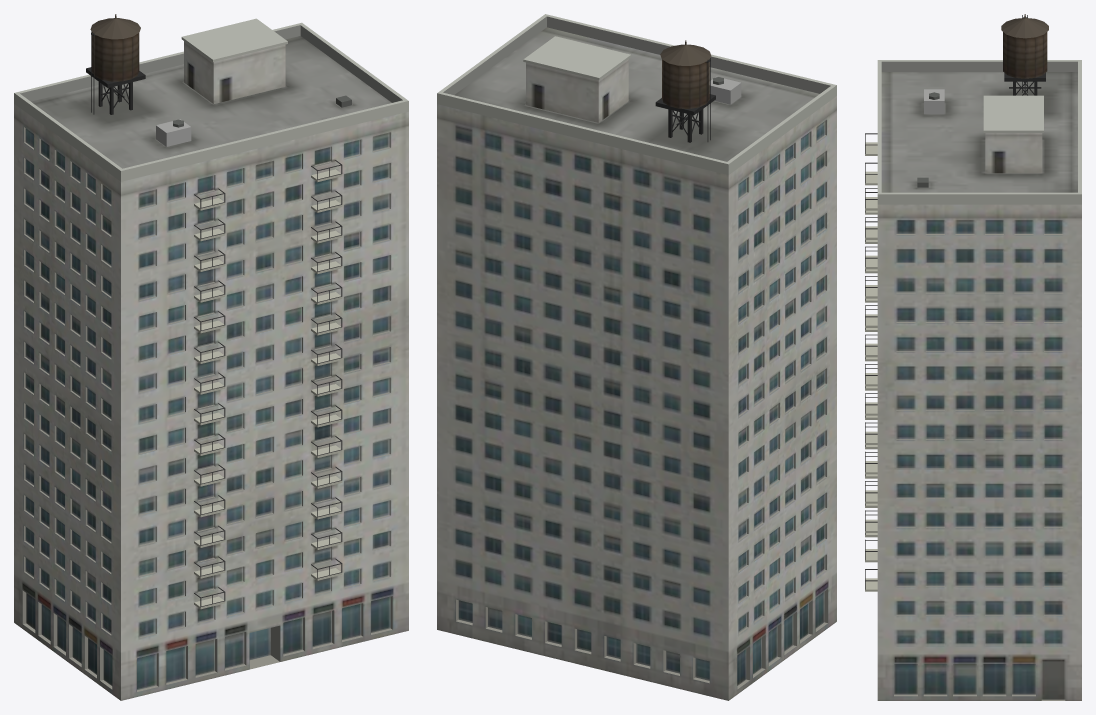
File: nyc_whitebrick_c.glb
3 views of the same model, side by side, from view 1: azimuth 30°, elevation 25°; view 2: azimuth 150°, elevation 25°; view 3: azimuth 270°, elevation 25° (orthographic). The views are drawn at different scales.
Visible parts, largest first — view 1: nyc_whitebrick_c; view 2: nyc_whitebrick_c; view 3: nyc_whitebrick_c.
Part boxes in pixels (bbox=[...]): nyc_whitebrick_c: bbox=[14, 14, 408, 700]; nyc_whitebrick_c: bbox=[437, 14, 836, 700]; nyc_whitebrick_c: bbox=[865, 14, 1081, 700].
Bounding box in the file's own units: 28 × 56.95 × 19.1.
1 material, 1 textured.
